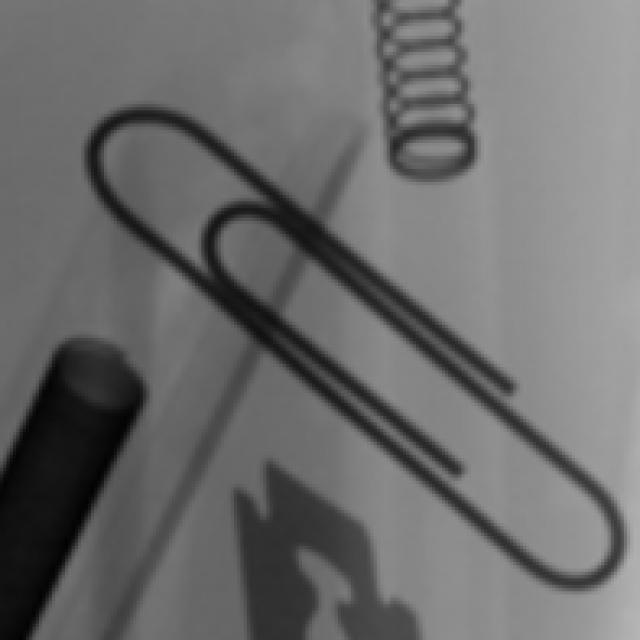GUN: (1, 366, 153, 637), (226, 478, 425, 640)
